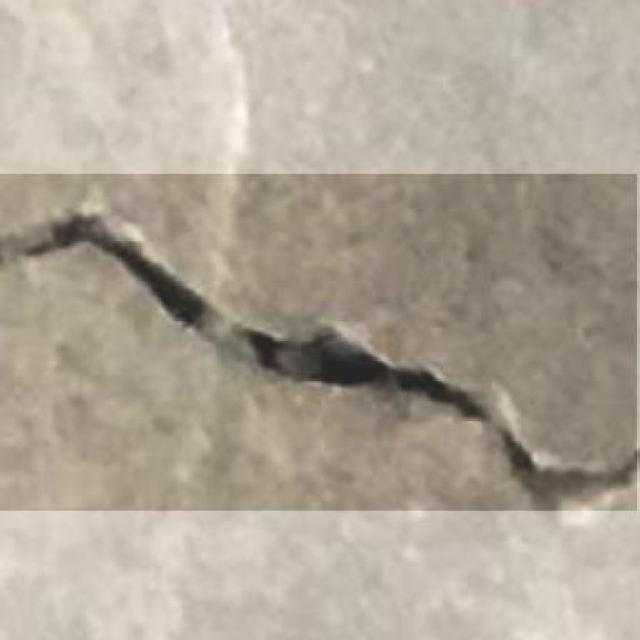crack: (0, 182, 640, 508)
